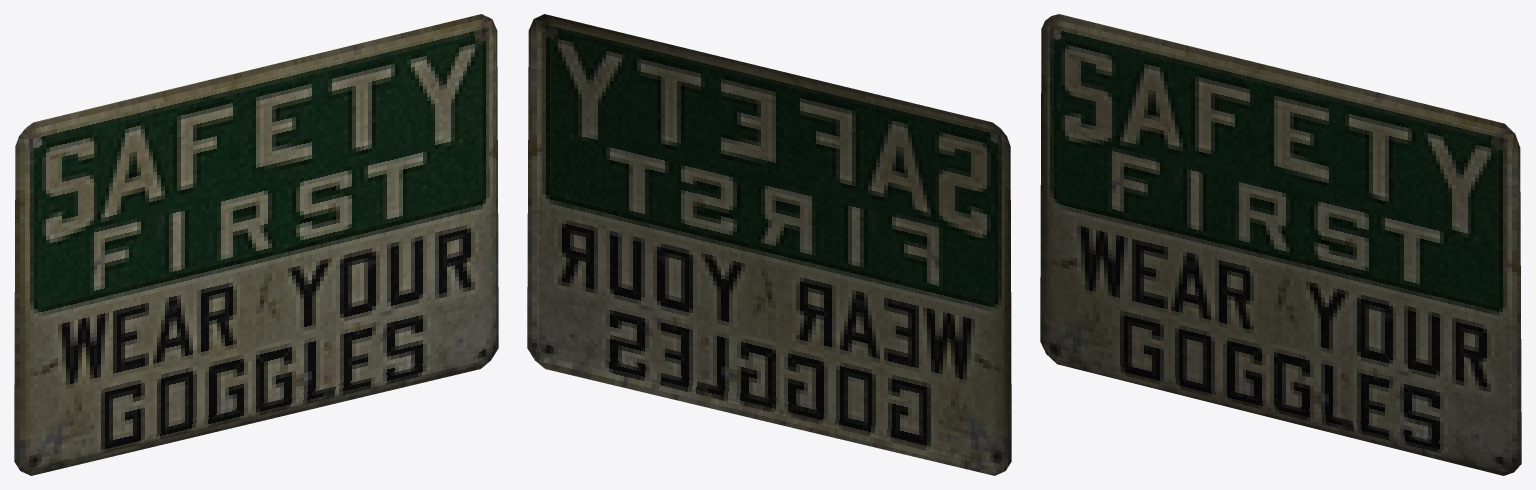
File: sign_1.glb
3 renders of one model, left to right at view 1: azimuth 30°, elevation 25°; view 2: azimuth 150°, elevation 25°; view 3: azimuth 330°, elevation 25°, orthographic.
Parts seen in each view (by area): view 1: sign_1; view 2: sign_1; view 3: sign_1.
Part boxes in pixels (left/top/right/bottom): sign_1: left=14, top=14, right=498, bottom=475; sign_1: left=527, top=14, right=1011, bottom=475; sign_1: left=1040, top=14, right=1521, bottom=475.
Bounding box in the file's own units: 0.4104 × 0.2879 × 0.005.
Materials: 1 (1 with a texture image).
